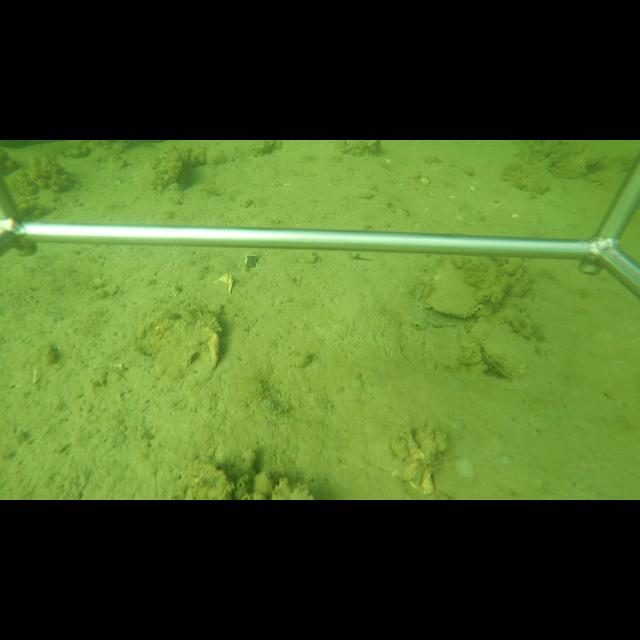Oyster-Closed: (467, 314, 526, 381), (423, 262, 488, 321)
